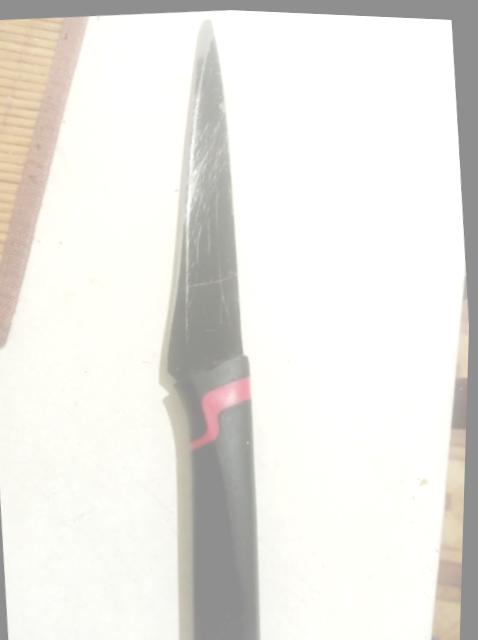Knife: (167, 19, 259, 640)
